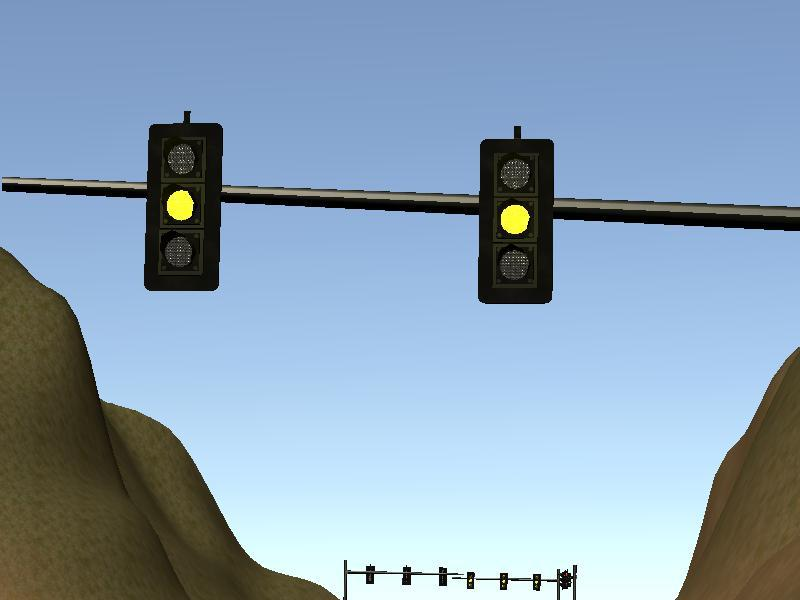Yellow: (148, 124, 220, 291), (481, 142, 553, 304)
